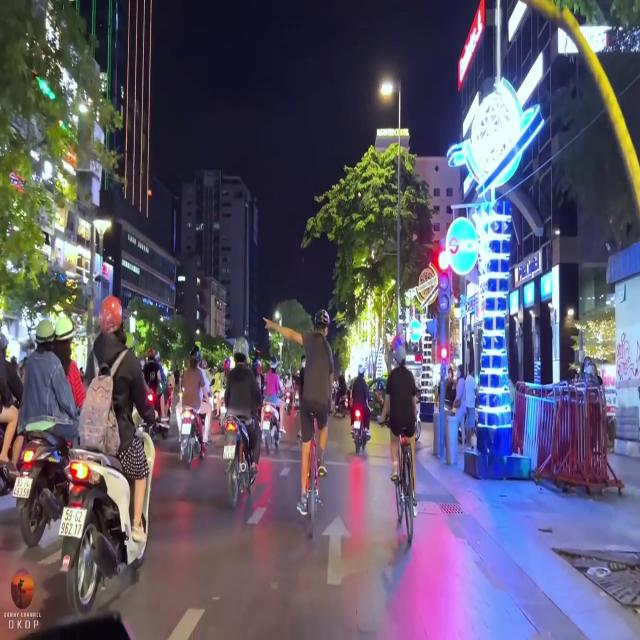bien_trang: (56, 503, 88, 543), (13, 473, 36, 502)
